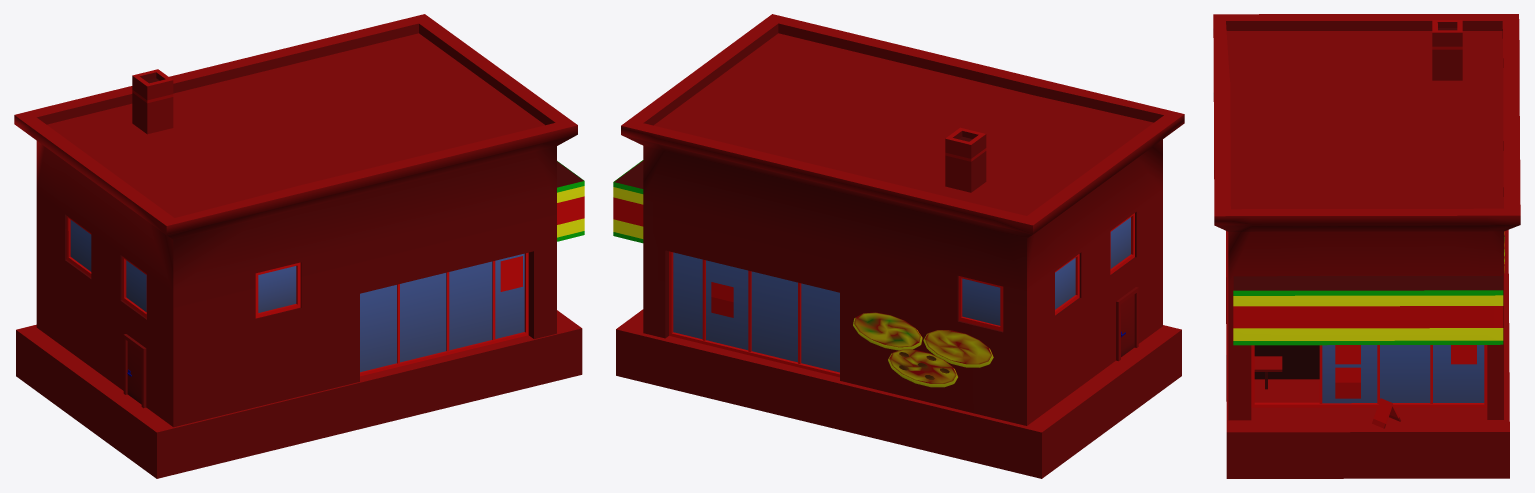
Rendered from Mesh.Pizzerria.fbx.
The picture shows the model from 3 angles, left to right: view 1: azimuth 30°, elevation 25°; view 2: azimuth 150°, elevation 25°; view 3: azimuth 270°, elevation 25°; orthographic projection.
Visible parts, largest first — view 1: base.071, windowRefl.053, light.005; view 2: base.071, windowRefl.053, light.005; view 3: base.071, light.005, windowRefl.053.
Part boxes in pixels (x1,y1,x2,y2): base.071: [14, 14, 583, 478]; windowRefl.053: [70, 220, 524, 372]; light.005: [557, 161, 584, 241]; base.071: [614, 14, 1184, 478]; windowRefl.053: [673, 217, 1130, 372]; light.005: [613, 160, 993, 387]; base.071: [1213, 14, 1520, 478]; light.005: [1233, 231, 1505, 345]; windowRefl.053: [1322, 345, 1484, 404].
Bounding box in the file's own units: 1158 × 1890 × 1231.
